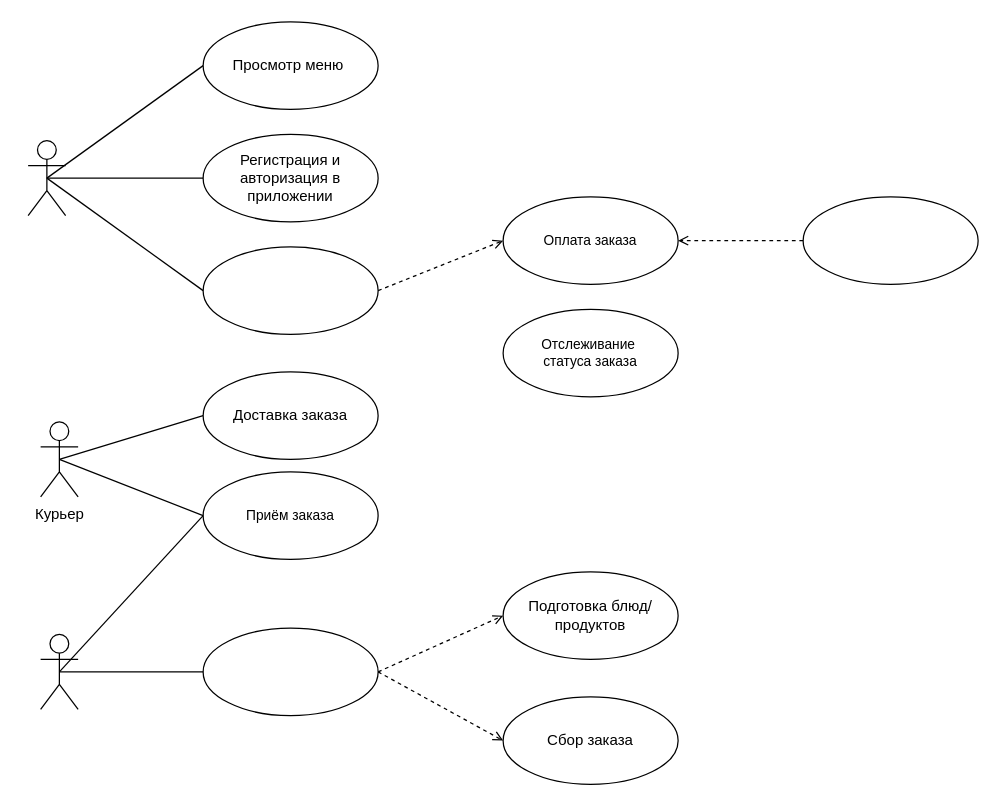
Some shapes in this 1000 by 806 pixel diagram are drawn without their labels. Here are the shapes that lost their labels. From the top down, the box of each, then its label:
(27, 139, 66, 216): Клиент
(802, 196, 978, 284): Отмена заказа
(202, 246, 378, 334): Заказ еды
(39, 633, 78, 709): Ресторан
(202, 627, 378, 716): Подготовка заказа
